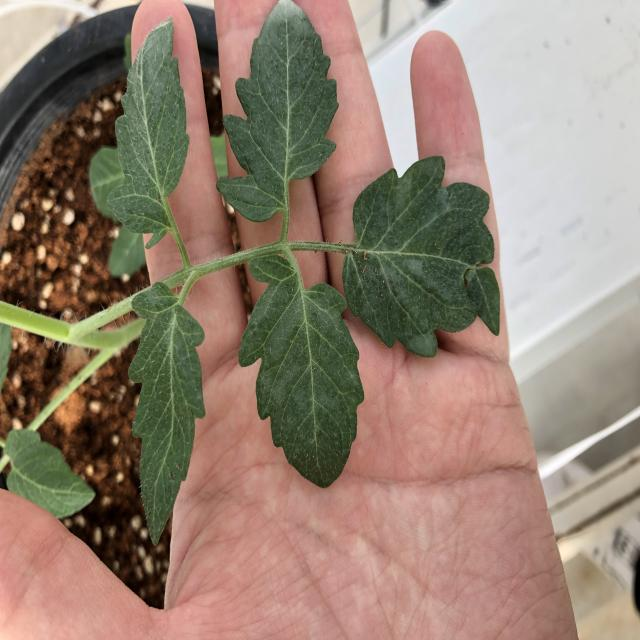Healthy Leaf: (344, 158, 502, 358), (240, 258, 365, 490), (217, 1, 340, 223), (129, 283, 206, 547), (108, 20, 190, 250)
